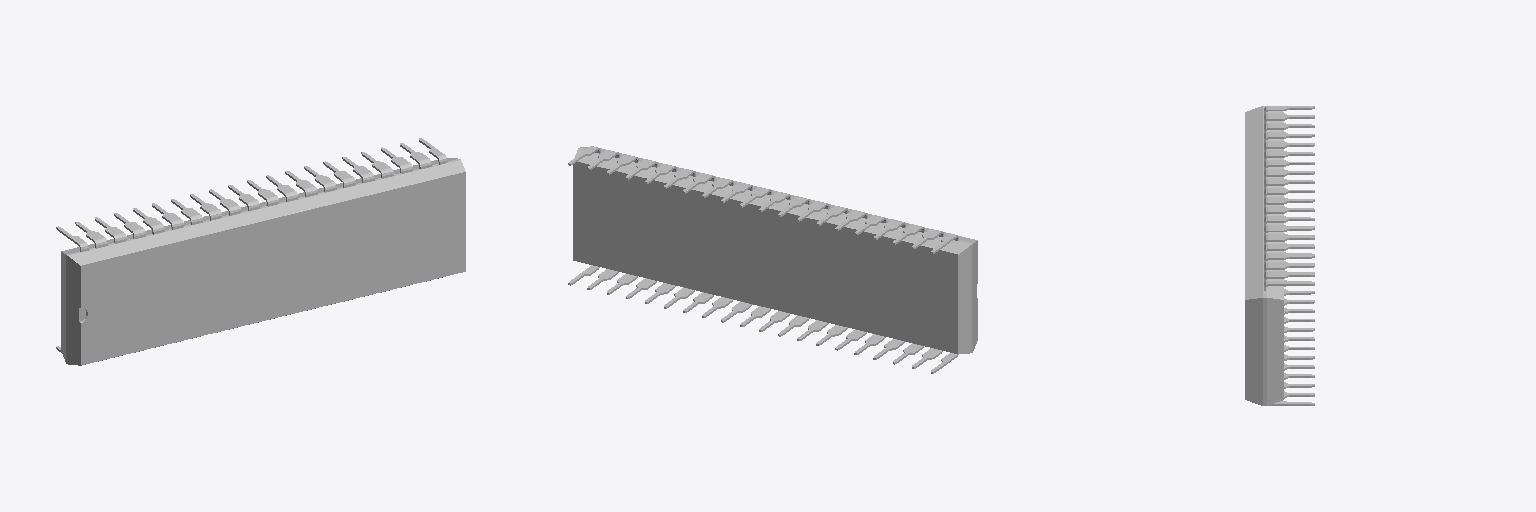
File: DIP-40P-M02.obj
The picture shows the model from 3 angles: view 1: azimuth 30°, elevation 25°; view 2: azimuth 150°, elevation 25°; view 3: azimuth 270°, elevation 25°; orthographic projection.
Parts seen in each view (by area): view 1: Solid1; view 2: Solid1; view 3: Solid1.
Part boxes in pixels (left/top/right/bottom): Solid1: left=56, top=138, right=465, bottom=365; Solid1: left=568, top=146, right=977, bottom=373; Solid1: left=1245, top=106, right=1314, bottom=405.
Bounding box in the file's own units: 52.4 × 15.49 × 8.